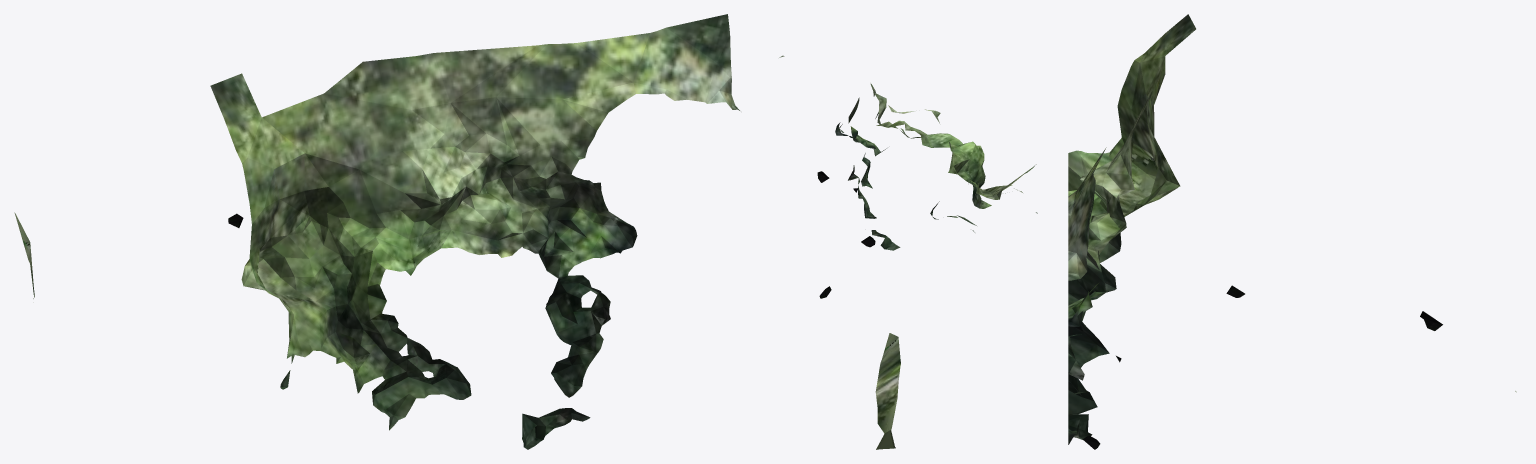
The picture shows the model from 3 angles, left to right: view 1: azimuth 30°, elevation 25°; view 2: azimuth 150°, elevation 25°; view 3: azimuth 270°, elevation 25°; orthographic projection. The views are drawn at different scales.
Size of the model in its own units: 26.11 by 26.11 by 26.11.
2 materials, 2 textured.
